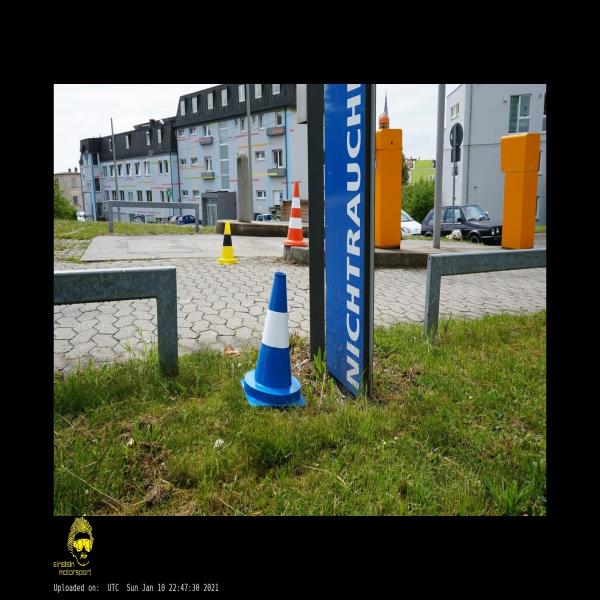blue_cone: (240, 272, 306, 406)
large_orange_cone: (282, 182, 308, 245)
yellow_cone: (215, 222, 238, 264)
